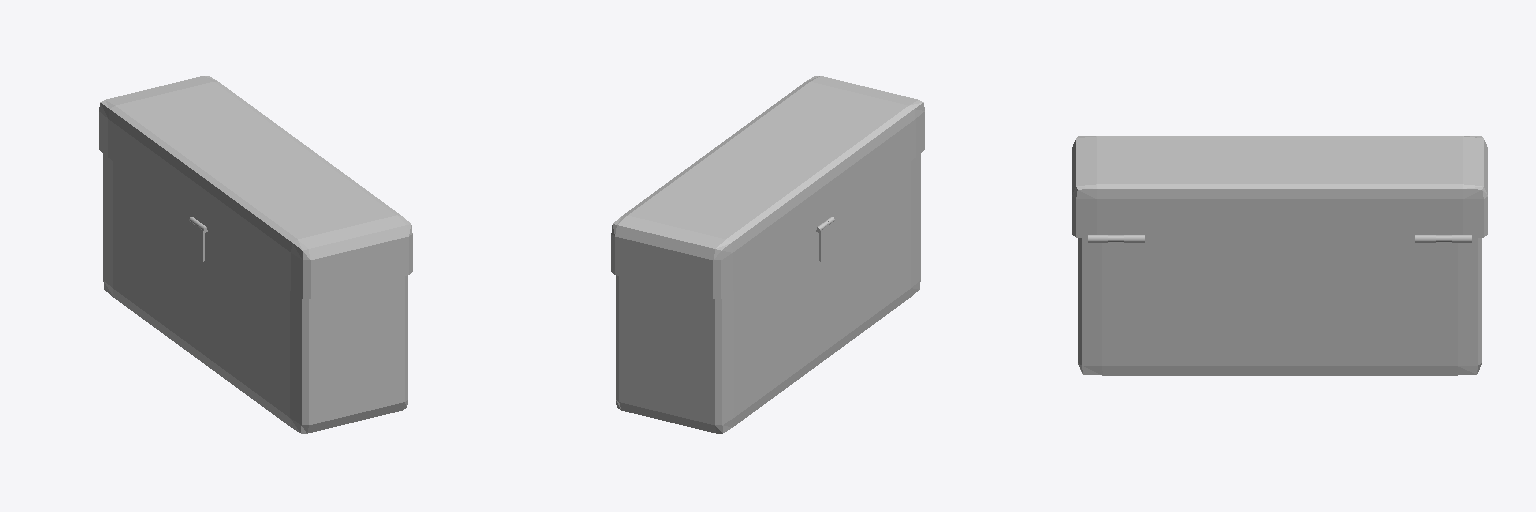
The model's file is automat-ammo-box.obj.
The picture shows the model from 3 angles: view 1: azimuth 30°, elevation 25°; view 2: azimuth 150°, elevation 25°; view 3: azimuth 270°, elevation 25°; orthographic projection.
Parts seen in each view (by area): view 1: основа_автоматной_пачки.002_Куб.024; view 2: основа_автоматной_пачки.002_Куб.024; view 3: основа_автоматной_пачки.002_Куб.024.
Boxes of the visible parts, box(x1,y1,x2,y2) form: основа_автоматной_пачки.002_Куб.024: box(99, 76, 412, 433); основа_автоматной_пачки.002_Куб.024: box(611, 76, 924, 433); основа_автоматной_пачки.002_Куб.024: box(1072, 136, 1487, 375).
Bounding box in the file's own units: 0.216 × 0.3315 × 0.6544.